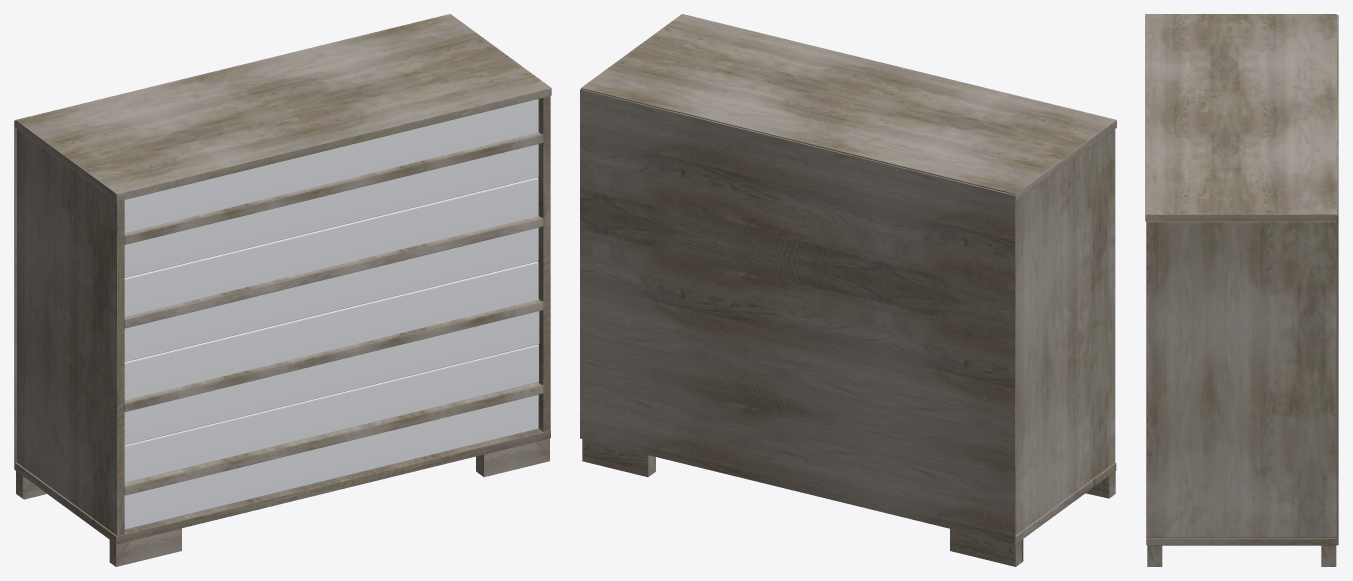
File: cabinet_B07GFFKRXS.glb
3 views of the same model, side by side, from view 1: azimuth 30°, elevation 25°; view 2: azimuth 150°, elevation 25°; view 3: azimuth 270°, elevation 25° (orthographic). The views are drawn at different scales.
Parts seen in each view (by area): view 1: RootNode; view 2: RootNode; view 3: RootNode.
Part boxes in pixels (bbox=[...]): RootNode: bbox=[14, 14, 551, 566]; RootNode: bbox=[580, 14, 1116, 566]; RootNode: bbox=[1145, 14, 1338, 566].
Size of the model in its own units: 0.9938 by 0.8156 by 0.4042.
1 material, 1 textured.
